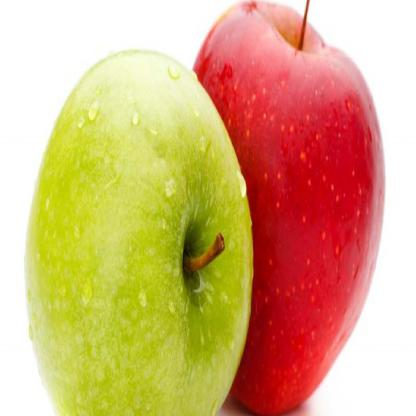apple: (171, 2, 386, 415)
